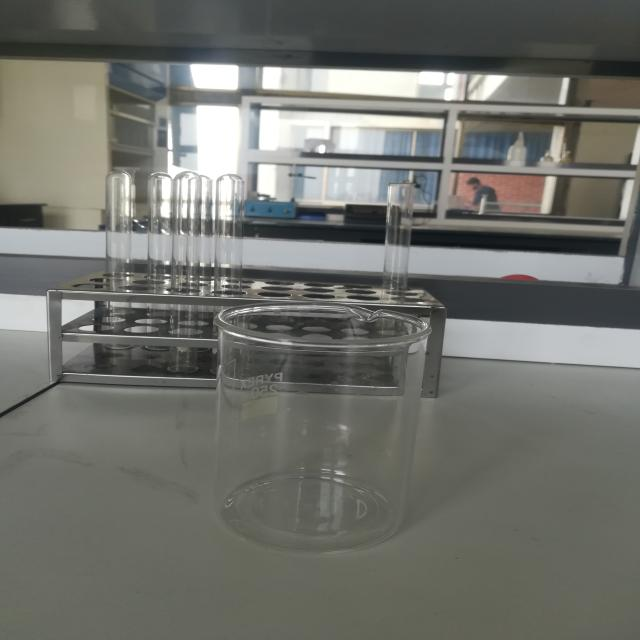Beaker: (179, 244, 450, 561)
